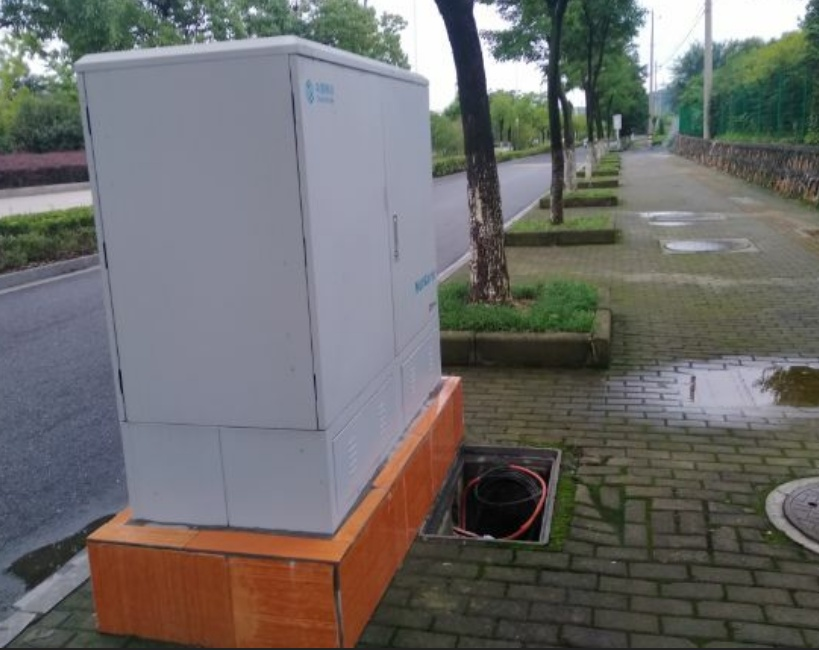lose: (416, 443, 561, 548)
